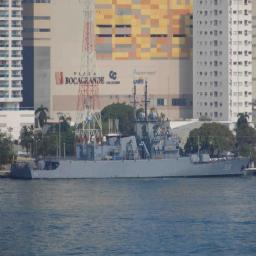Fragata: (9, 74, 254, 182)
